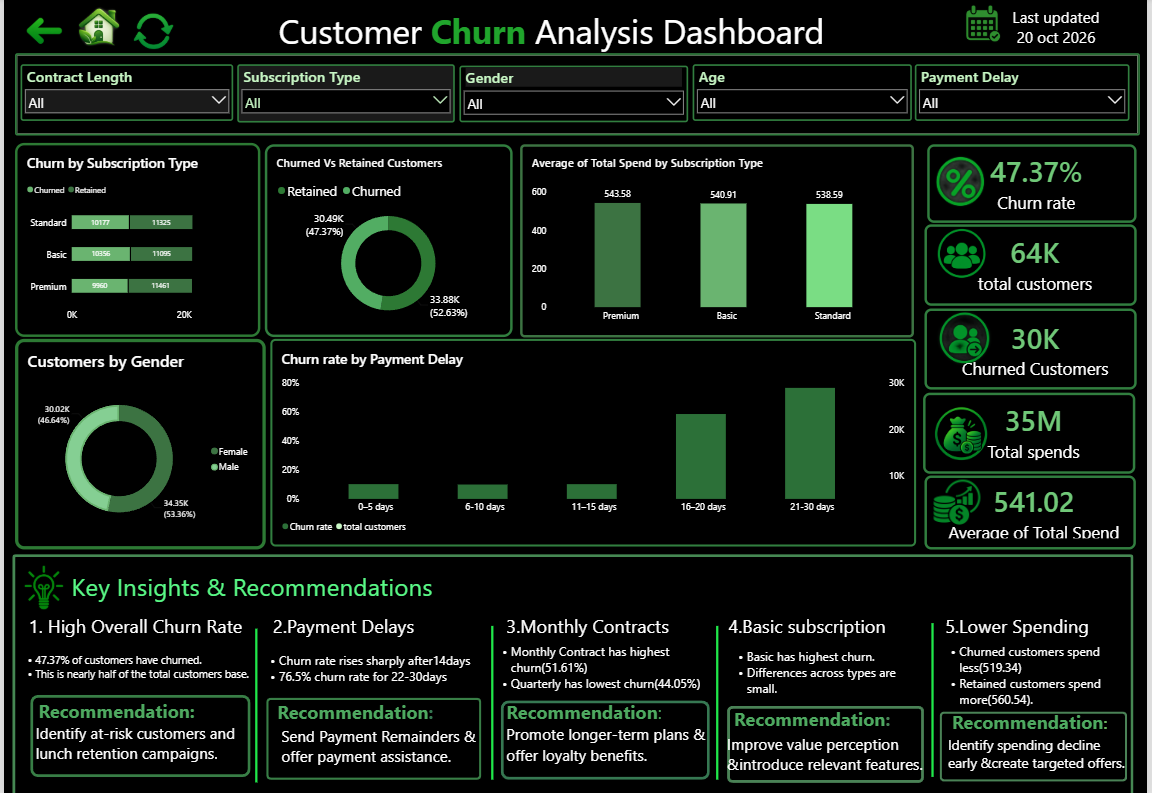

The dashboard page shown, as its layout file describes it:
{"tool":"powerbi","page":{"name":"Page 1","canvas":[2003,1401],"ordinal":0},"visuals":[{"type":"card","fields":{"Values":["customer_churn_dataset-testing-master.Churn rate"]},"box":[1616,255.9,367,138],"z":2},{"type":"card","fields":{"Values":["customer_churn_dataset-testing-master.Total spends"]},"box":[1610.6,692,371.8,142],"z":3},{"type":"card","fields":{"Values":["customer_churn_dataset-testing-master.Churned Customers"]},"box":[1613.3,543,371.8,142],"z":4},{"type":"card","fields":{"Values":["customer_churn_dataset-testing-master.total customers"]},"box":[1613.3,395.9,371.8,143],"z":5},{"type":"image","box":[1611.5,264,126.5,118.8],"z":6},{"type":"image","box":[1595.3,544.1,175,105],"z":8},{"type":"image","box":[1600,713.1,153,103],"z":9},{"type":"image","box":[1613.8,395.9,126.5,105.8],"z":10},{"type":"donutChart","title":"Churned Vs Retained Customers","fields":{"Category":["customer_churn_dataset-testing-master.Churn status"],"Y":["CountNonNull(customer_churn_dataset-testing-master.CustomerID)"]},"box":[457.9,255.9,434,338],"z":11},{"type":"barChart","title":"Churn by Subscription Type","fields":{"Category":["customer_churn_dataset-testing-master.Subscription Type"],"Series":["customer_churn_dataset-testing-master.Churn status"],"Y":["CountNonNull(customer_churn_dataset-testing-master.CustomerID)"]},"box":[20,254,430,340],"z":13},{"type":"donutChart","title":"Customers by Gender","fields":{"Category":["customer_churn_dataset-testing-master.Gender"],"Y":["CountNonNull(customer_churn_dataset-testing-master.CustomerID)"]},"box":[20,597.9,439,369],"z":14},{"type":"textbox","box":[480.2,18.1,1050.7,77.5],"z":17},{"type":"image","box":[90.4,2,153,95],"z":18},{"type":"image","box":[25.8,18.1,87.2,78.9],"z":19},{"type":"shape","box":[20,96,1970,144],"z":20},{"type":"slicer","fields":{"Values":["customer_churn_dataset-testing-master.Contract Length"]},"box":[29,115.8,372.8,99.6],"z":21},{"type":"slicer","fields":{"Values":["customer_churn_dataset-testing-master.Subscription Type"]},"box":[409,115.8,381,102],"z":22},{"type":"slicer","fields":{"Values":["customer_churn_dataset-testing-master.Gender"]},"box":[797,118.5,401,99],"z":23},{"type":"slicer","fields":{"Values":["customer_churn_dataset-testing-master.Age"]},"box":[1205,117,384,99.6],"z":24},{"type":"lineClusteredColumnComboChart","title":"Churn  rate by Payment Delay","fields":{"Category":["customer_churn_dataset-testing-master.Payment delay by group"],"Y":["customer_churn_dataset-testing-master.Churn rate"],"Y2":["customer_churn_dataset-testing-master.total customers"]},"box":[467,598,1131.2,364],"z":25},{"type":"image","box":[1626.7,0,172,87],"z":26},{"type":"clusteredColumnChart","fields":{"Category":["customer_churn_dataset-testing-master.Subscription Type"],"Y":["Avg(customer_churn_dataset-testing-master.Total Spend)"]},"box":[904,255.9,690,338.2],"z":27},{"type":"actionButton","box":[234.9,12.9,80,77.5],"z":28},{"type":"image","box":[215.5,13.5,92,85],"z":29},{"type":"textbox","box":[1704.8,13.5,277.4,80.8],"z":30},{"type":"card","fields":{"Values":["Avg(customer_churn_dataset-testing-master.Total Spend)"]},"box":[1613,837,370.5,129.7],"z":31},{"type":"slicer","fields":{"Values":["customer_churn_dataset-testing-master.Payment Delay"]},"box":[1595,117,376,99.6],"z":32},{"type":"image","box":[1589,816.1,158.9,129.3],"z":33},{"type":"shape","box":[13.5,975,1964,426],"z":34},{"type":"textbox","box":[118.5,1001.9,651.8,59.3],"z":35},{"type":"shape","box":[293.6,1104.2,299,269.3],"z":36},{"type":"shape","box":[705.6,1098.9,299,269.3],"z":37},{"type":"shape","box":[1098.9,1098.9,299,269.3],"z":38},{"type":"shape","box":[1475.9,1096.2,299,269.3],"z":39},{"type":"textbox","box":[43.1,1077.3,379.8,56.6],"z":41},{"type":"textbox","box":[26.9,1144.6,530.6,75.4],"z":42},{"type":"textbox","box":[471.3,1077.3,358.2,56.6],"z":43},{"type":"shape","box":[45.8,1220.1,386,144],"z":45},{"type":"shape","box":[1638,1249,328.6,123],"z":47},{"type":"shape","box":[1265.8,1238.9,344.7,134.7],"z":48},{"type":"shape","box":[869,1230,366.3,139],"z":49},{"type":"shape","box":[460,1226,377,144],"z":50},{"type":"textbox","box":[56.6,1268.5,374.4,78.1],"z":51},{"type":"textbox","box":[59.3,1225.4,352.8,43.1],"z":52},{"type":"textbox","box":[449.8,1144.6,377.1,94.3],"z":53},{"type":"textbox","box":[479.4,1228.1,309.7,64.6],"z":54},{"type":"textbox","box":[484.8,1273.9,355.5,86.2],"z":55},{"type":"textbox","box":[880.7,1077.3,317.8,56.6],"z":56},{"type":"textbox","box":[856.5,1128.5,420.2,97],"z":57},{"type":"textbox","box":[880.7,1228.1,371.7,48.5],"z":58},{"type":"textbox","box":[880.7,1271.2,385.1,129.3],"z":59},{"type":"textbox","box":[1268.5,1077.3,342,56.6],"z":60},{"type":"textbox","box":[1268.5,1139.3,336.7,113.1],"z":61},{"type":"textbox","box":[1279.3,1238.9,331.3,43.1],"z":62},{"type":"textbox","box":[1265.8,1287.4,371.7,99.7],"z":63},{"type":"textbox","box":[1648.3,1077.3,334,59.3],"z":64},{"type":"textbox","box":[1640.2,1128.5,350.1,121.2],"z":65},{"type":"textbox","box":[1653.7,1290.1,317.8,97],"z":66},{"type":"textbox","box":[1661.8,1244.3,274.7,48.5],"z":67},{"type":"image","box":[24.2,993.8,91.6,78.1],"z":68}]}

Visuals, with their boxes in screenshot pixels (x1, y1, x2, y2), scaled from the page's 2003x1401 canvas onto the 1152x793 screenshot:
card - customer_churn_dataset-testing-master.Churn rate: l=929, t=145, r=1140, b=223
card - customer_churn_dataset-testing-master.Total spends: l=926, t=392, r=1140, b=472
card - customer_churn_dataset-testing-master.Churned Customers: l=928, t=307, r=1142, b=388
card - customer_churn_dataset-testing-master.total customers: l=928, t=224, r=1142, b=305
image: l=927, t=149, r=1000, b=217
image: l=918, t=308, r=1018, b=367
image: l=920, t=404, r=1008, b=462
image: l=928, t=224, r=1001, b=284
"Churned Vs Retained Customers" donutChart: l=263, t=145, r=513, b=336
"Churn by Subscription Type" barChart: l=12, t=144, r=259, b=336
"Customers by Gender" donutChart: l=12, t=338, r=264, b=547
textbox: l=276, t=10, r=880, b=54
image: l=52, t=1, r=140, b=55
image: l=15, t=10, r=65, b=55
shape: l=12, t=54, r=1145, b=136
slicer - customer_churn_dataset-testing-master.Contract Length: l=17, t=66, r=231, b=122
slicer - customer_churn_dataset-testing-master.Subscription Type: l=235, t=66, r=454, b=123
slicer - customer_churn_dataset-testing-master.Gender: l=458, t=67, r=689, b=123
slicer - customer_churn_dataset-testing-master.Age: l=693, t=66, r=914, b=123
"Churn  rate by Payment Delay" lineClusteredColumnComboChart: l=269, t=338, r=919, b=545
image: l=936, t=0, r=1034, b=49
clusteredColumnChart - customer_churn_dataset-testing-master.Subscription Type x Avg(customer_churn_dataset-testing-master.Total Spend): l=520, t=145, r=917, b=336
actionButton: l=135, t=7, r=181, b=51
image: l=124, t=8, r=177, b=56
textbox: l=980, t=8, r=1140, b=53
card - Avg(customer_churn_dataset-testing-master.Total Spend): l=928, t=474, r=1141, b=547
slicer - customer_churn_dataset-testing-master.Payment Delay: l=917, t=66, r=1134, b=123
image: l=914, t=462, r=1005, b=535
shape: l=8, t=552, r=1137, b=792
textbox: l=68, t=567, r=443, b=601
shape: l=169, t=625, r=341, b=777
shape: l=406, t=622, r=578, b=774
shape: l=632, t=622, r=804, b=774
shape: l=849, t=620, r=1021, b=773
textbox: l=25, t=610, r=243, b=642
textbox: l=15, t=648, r=321, b=691
textbox: l=271, t=610, r=477, b=642
shape: l=26, t=691, r=248, b=772
shape: l=942, t=707, r=1131, b=777
shape: l=728, t=701, r=926, b=777
shape: l=500, t=696, r=710, b=775
shape: l=265, t=694, r=481, b=775
textbox: l=33, t=718, r=248, b=762
textbox: l=34, t=694, r=237, b=718
textbox: l=259, t=648, r=476, b=701
textbox: l=276, t=695, r=454, b=732
textbox: l=279, t=721, r=483, b=770
textbox: l=507, t=610, r=689, b=642
textbox: l=493, t=639, r=734, b=694
textbox: l=507, t=695, r=720, b=723
textbox: l=507, t=720, r=728, b=792
textbox: l=730, t=610, r=926, b=642
textbox: l=730, t=645, r=923, b=709
textbox: l=736, t=701, r=926, b=726
textbox: l=728, t=729, r=942, b=785
textbox: l=948, t=610, r=1140, b=643
textbox: l=943, t=639, r=1145, b=707
textbox: l=951, t=730, r=1134, b=785
textbox: l=956, t=704, r=1114, b=732
image: l=14, t=563, r=67, b=607
